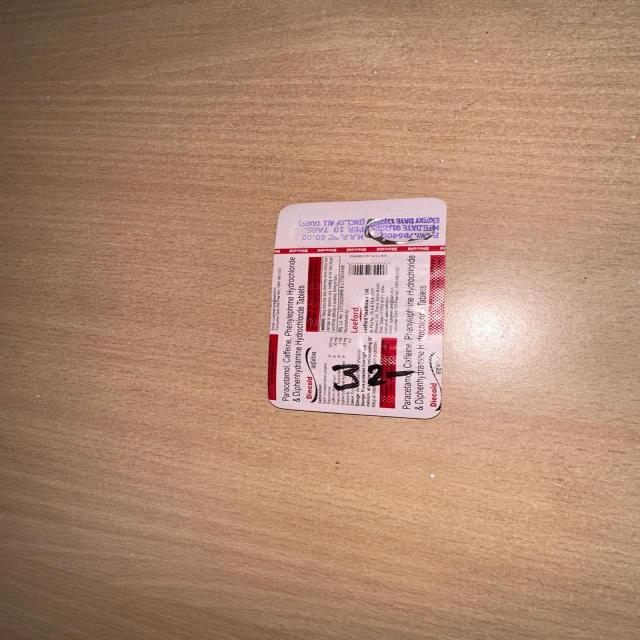medicine: (260, 188, 458, 422)
